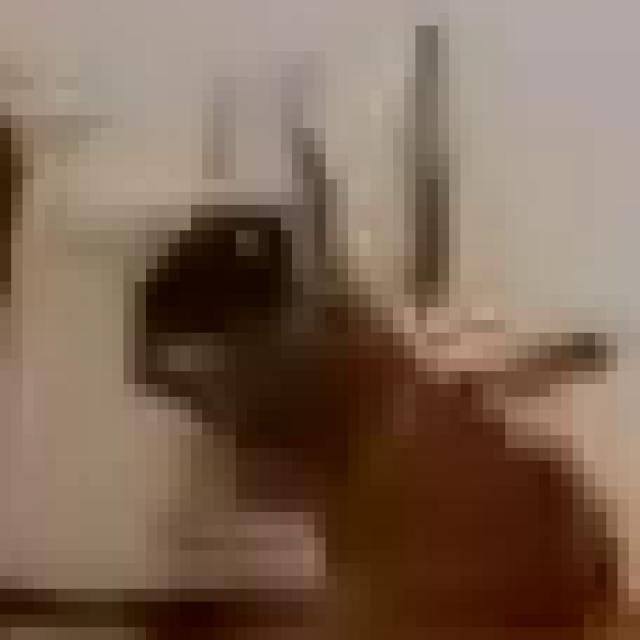honeybee: (89, 166, 568, 570)
